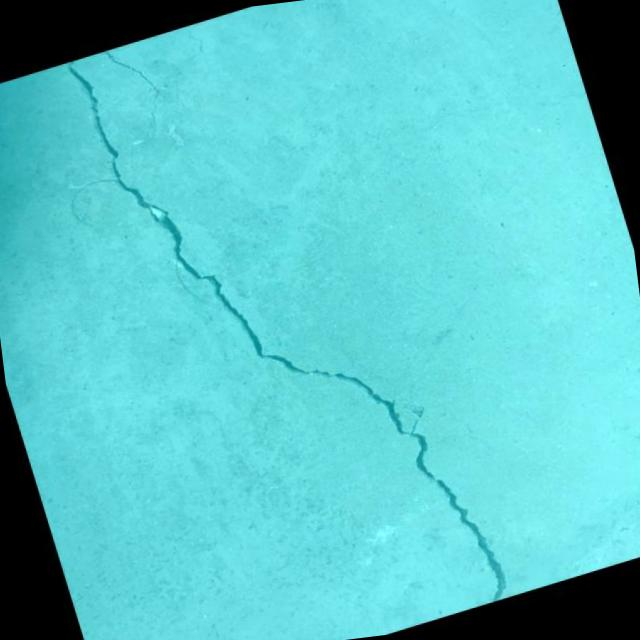crack: (60, 0, 513, 640), (96, 38, 173, 146), (151, 20, 226, 124)
